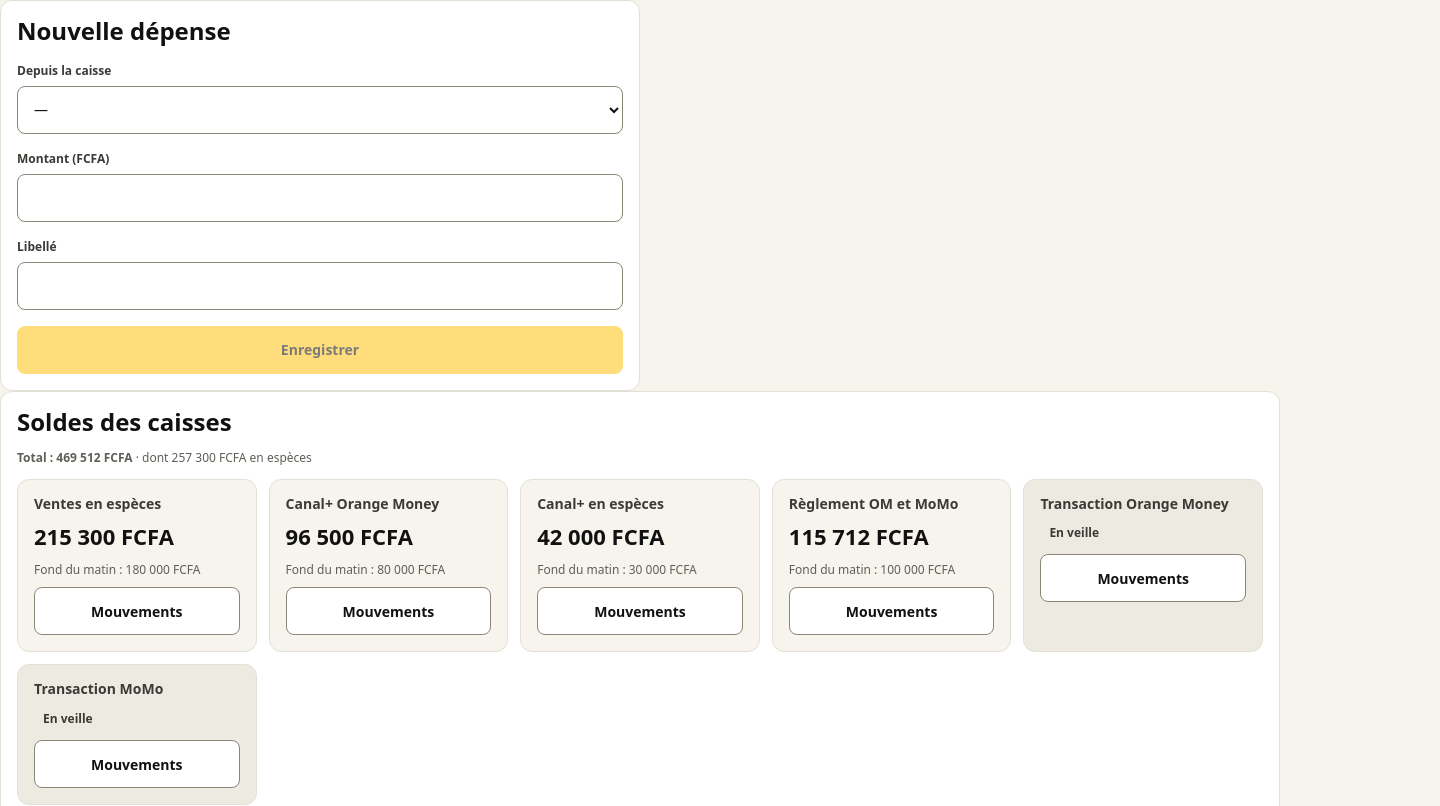
Scenario: CoCoCaisse › une dépense baisse le solde tout de suite, même hors ligne
This screenshot has width=1440, height=806.
Expected: the text "Total : 469 512 FCFA" is shown, [17,449,133,466]
Select "Ventes en espèces" in the dropdown labelled "Depuis la caisse": (320, 110) [17,86,623,134]
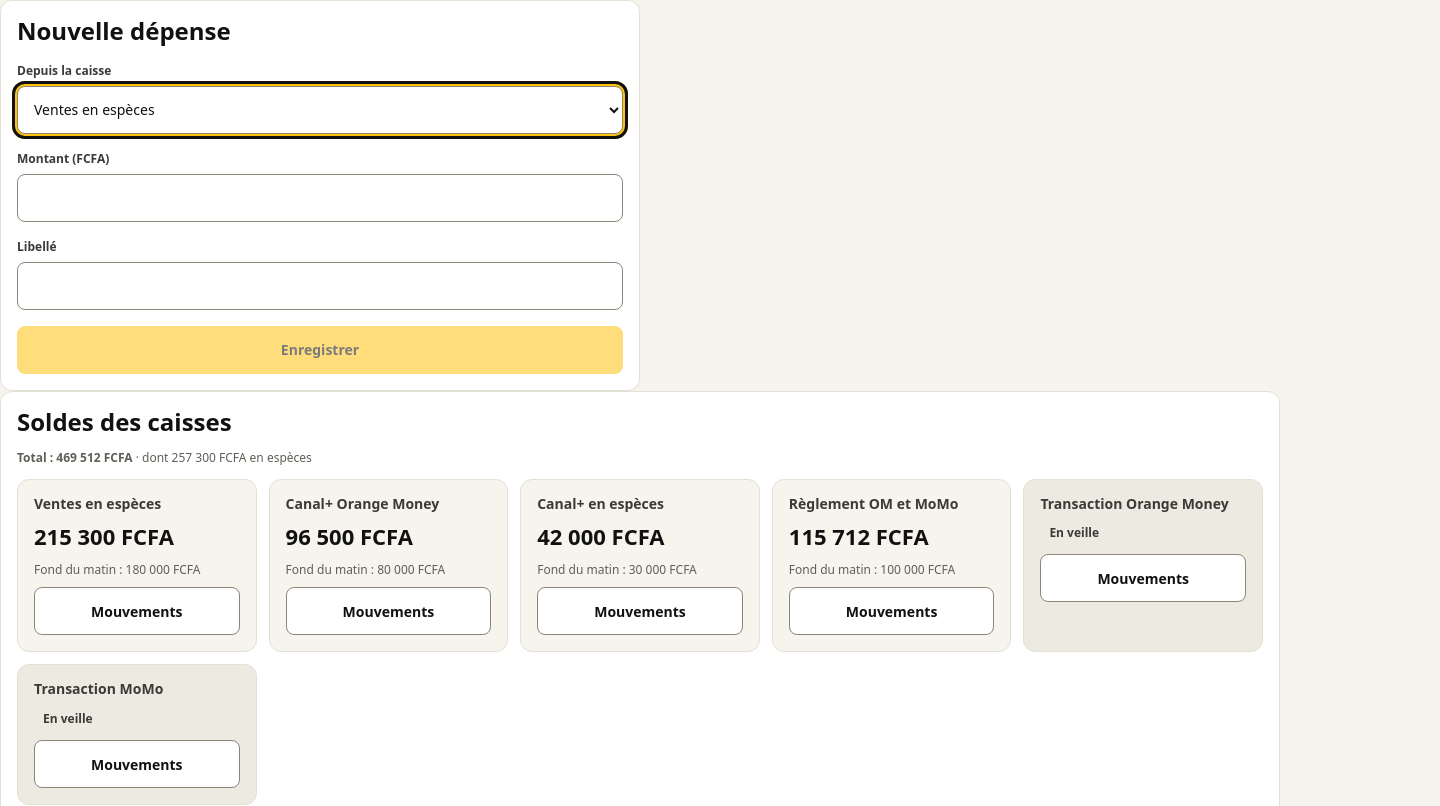
In the field labelled "Montant (FCFA)": (320, 198) [17,174,623,222], type "5000"
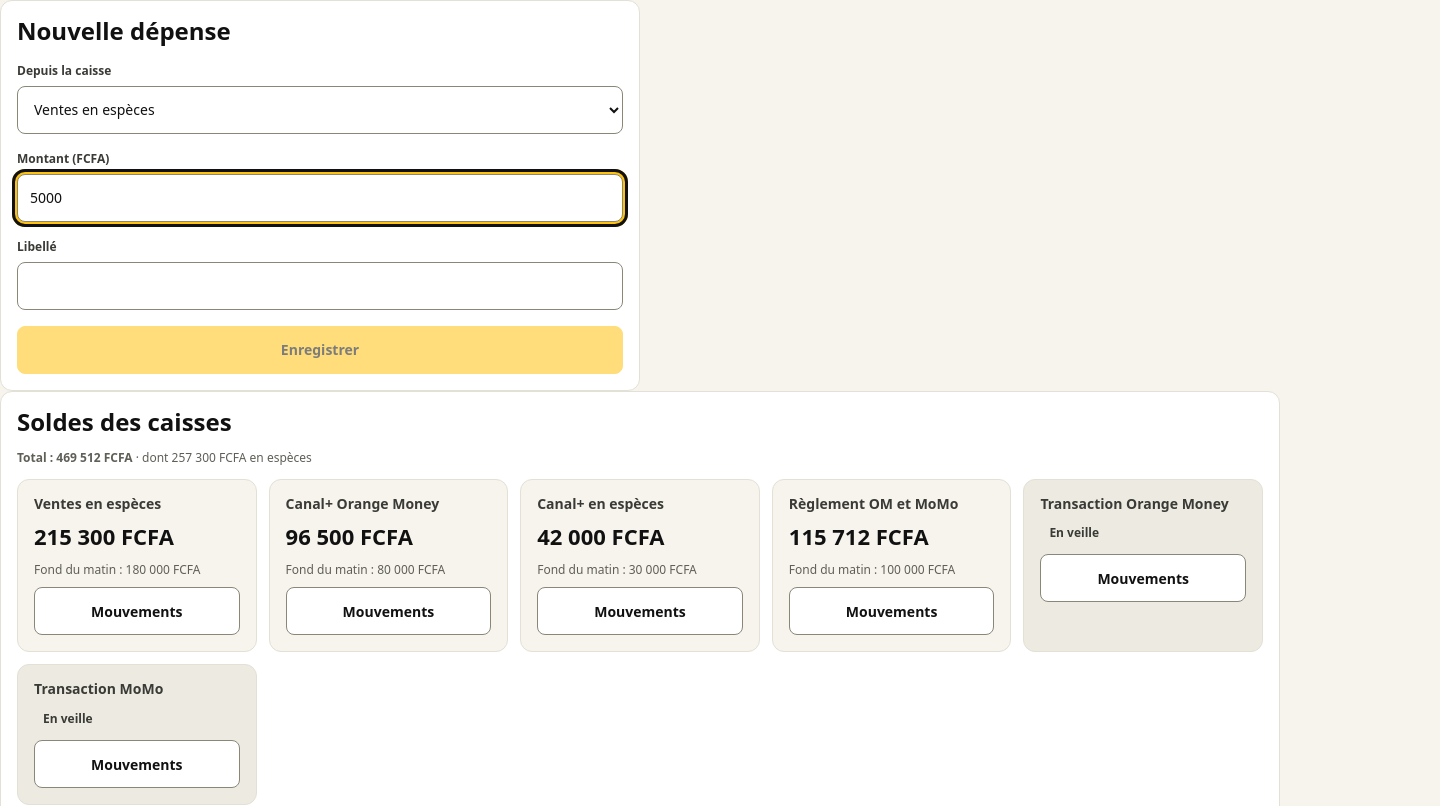
In the field labelled "Libellé": (320, 286) [17,262,623,310], type "Transport"
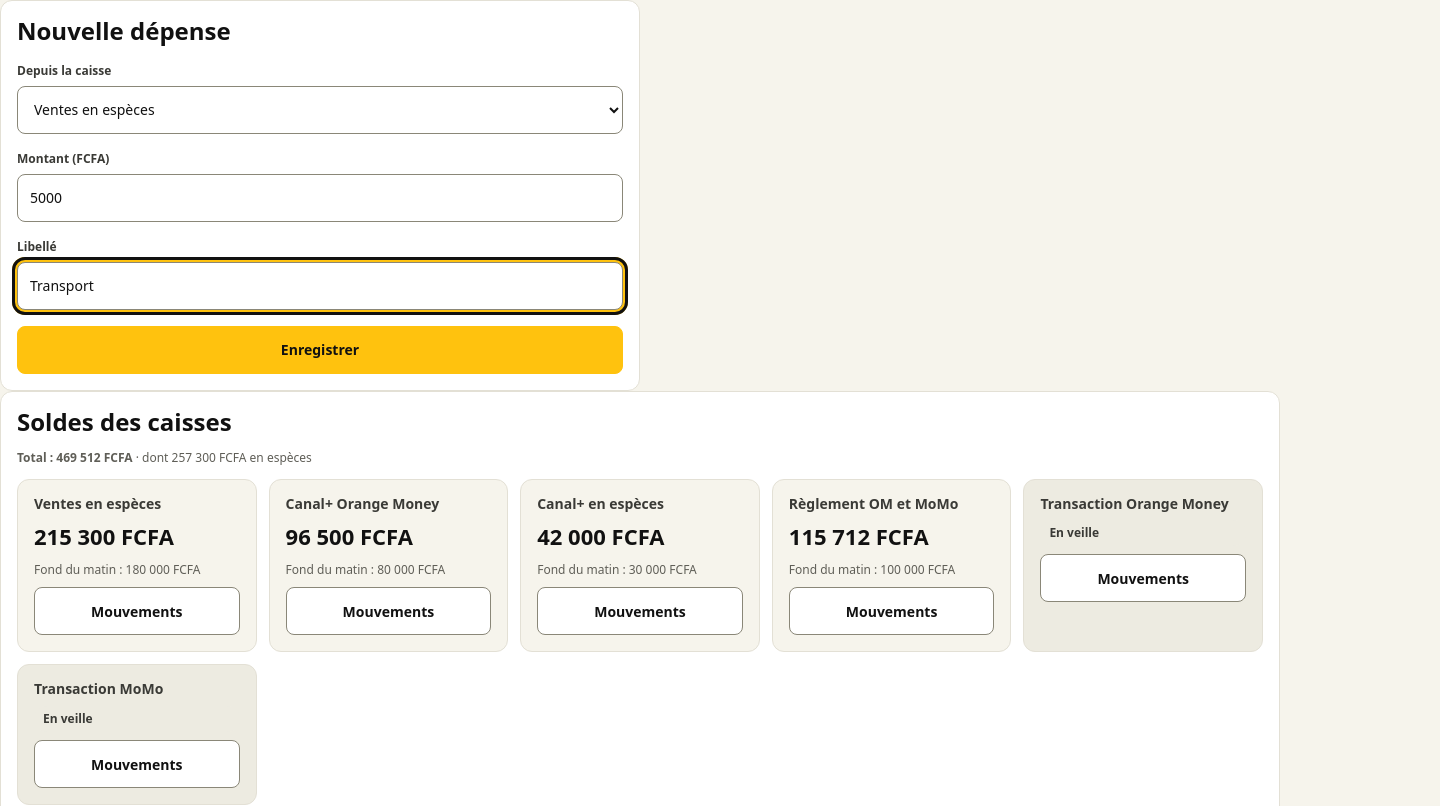
Click the button "Enregistrer": (320, 350) [17,326,623,374]
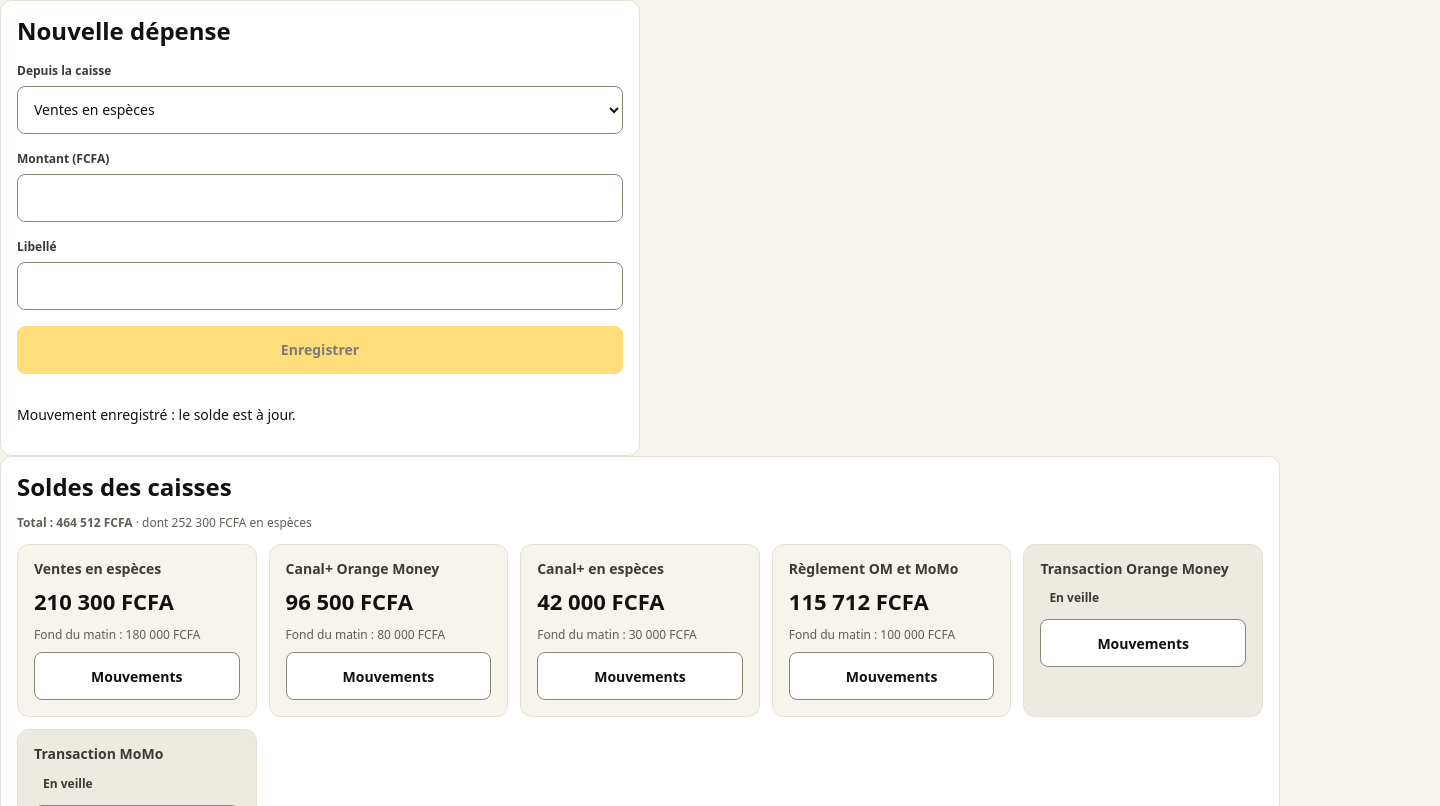
Expected: the text "Total : 464 512 FCFA" is shown, [17,514,133,531]
